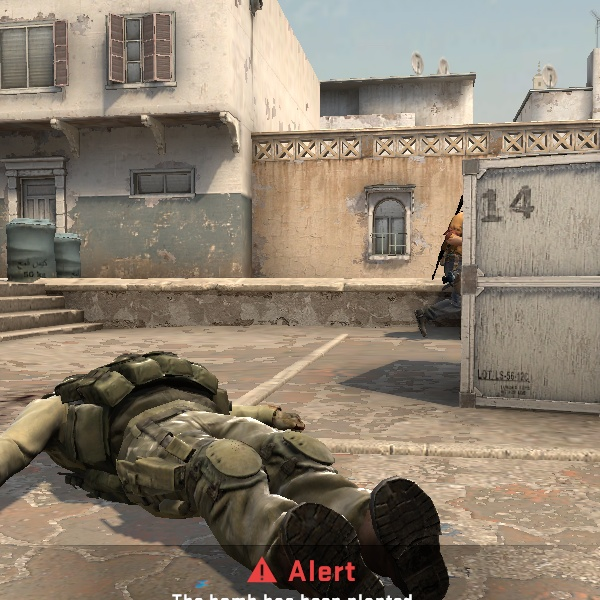t_body: (418, 210, 469, 333)
